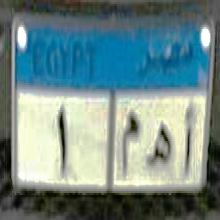1: (54, 103, 71, 180)
alif: (180, 106, 194, 180)
haa: (146, 118, 172, 173)
meem: (120, 107, 140, 179)
